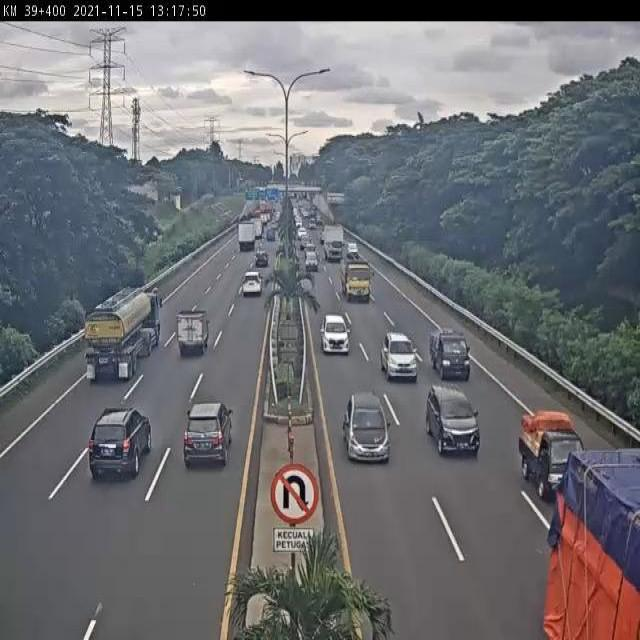car: (87, 405, 153, 479), (425, 382, 481, 454), (343, 391, 393, 464), (185, 403, 233, 465), (381, 329, 419, 382), (320, 314, 351, 354), (242, 269, 264, 296)
truck-m-: (339, 260, 373, 303)
truck-s-: (517, 405, 588, 503), (430, 329, 470, 383), (177, 310, 210, 354)
truck-xl-: (82, 288, 164, 381)
